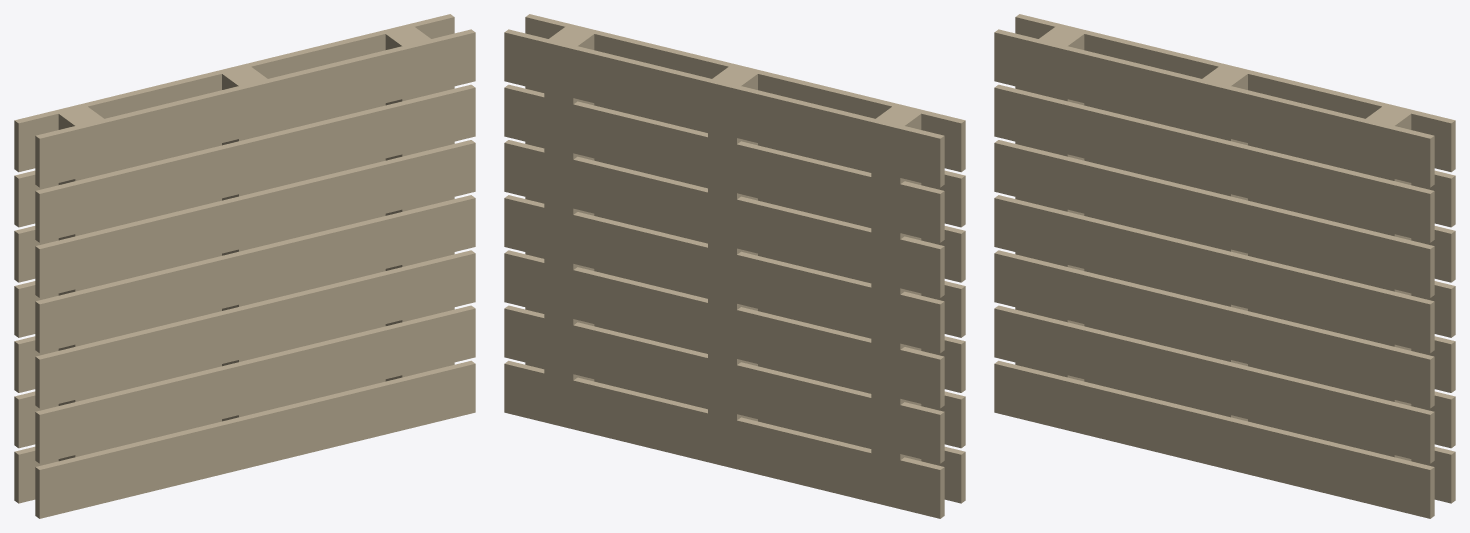
Rendered from palletdoblefaz.glb.
The picture shows the model from 3 angles, left to right: view 1: azimuth 30°, elevation 25°; view 2: azimuth 150°, elevation 25°; view 3: azimuth 330°, elevation 25°; orthographic projection.
Parts seen in each view (by area): view 1: world; view 2: world; view 3: world.
Boxes of the visible parts, <box> form: world: <box>14,14,475,518</box>; world: <box>504,14,965,518</box>; world: <box>994,14,1455,518</box>.
Bounding box in the file's own units: 1.2 × 1 × 0.12.
